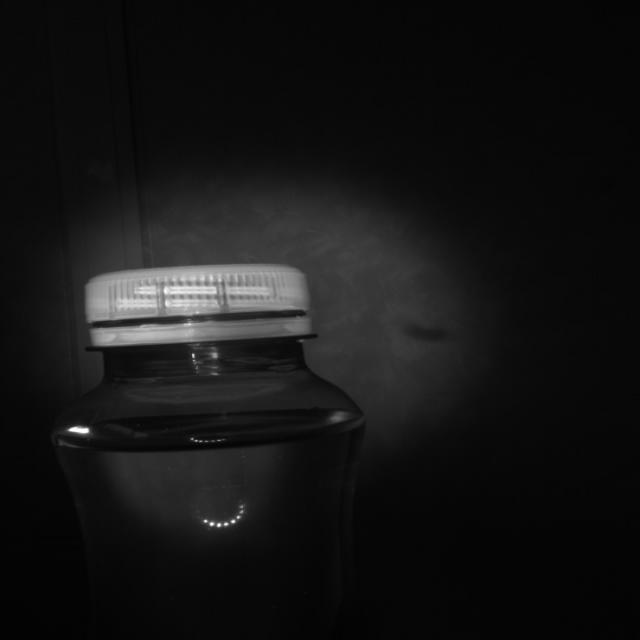Not Good: (87, 262, 314, 348)
